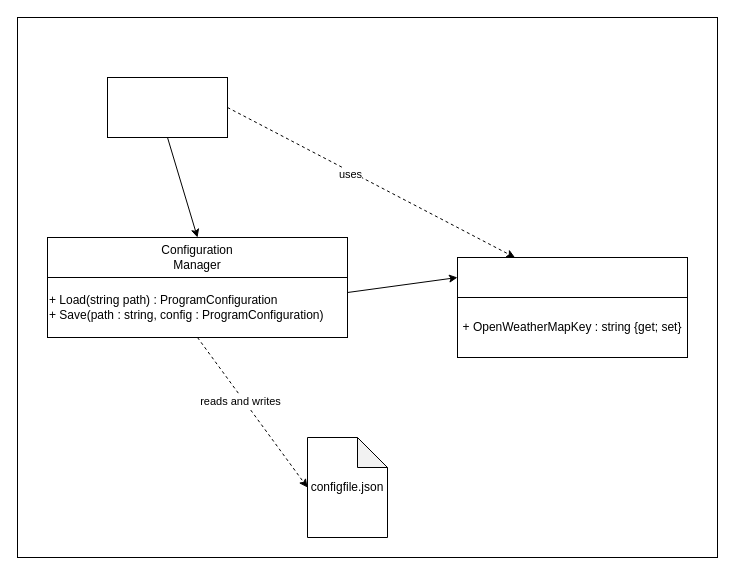
Image size: 735x575. Some labels were removed from this diagram. Each missing label, with the centre of its shape:
ProgramConfiguration: the point at 572,277
WeatherForecast (main): the point at 167,107
